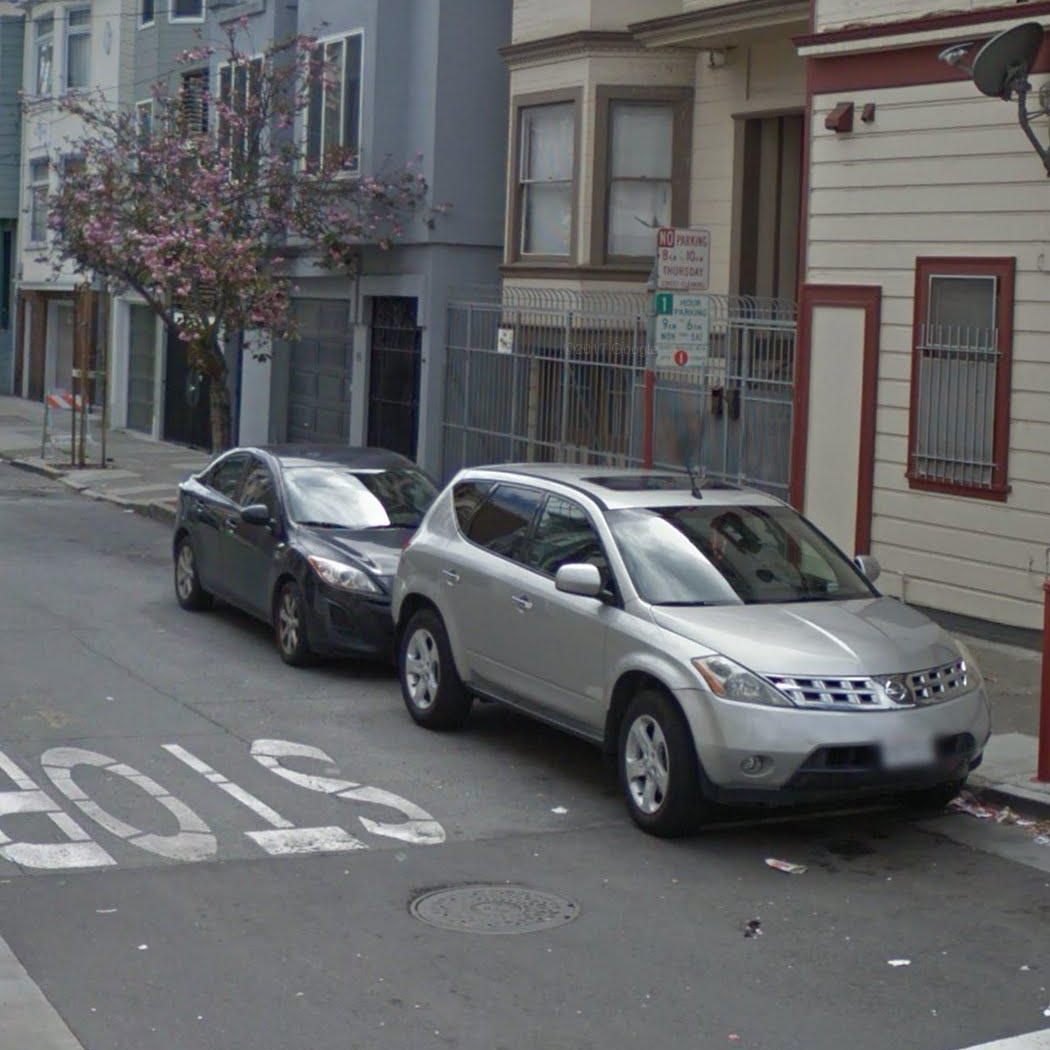1 Hour Parking: (653, 291, 712, 369)
No Parking: (655, 227, 711, 291)
